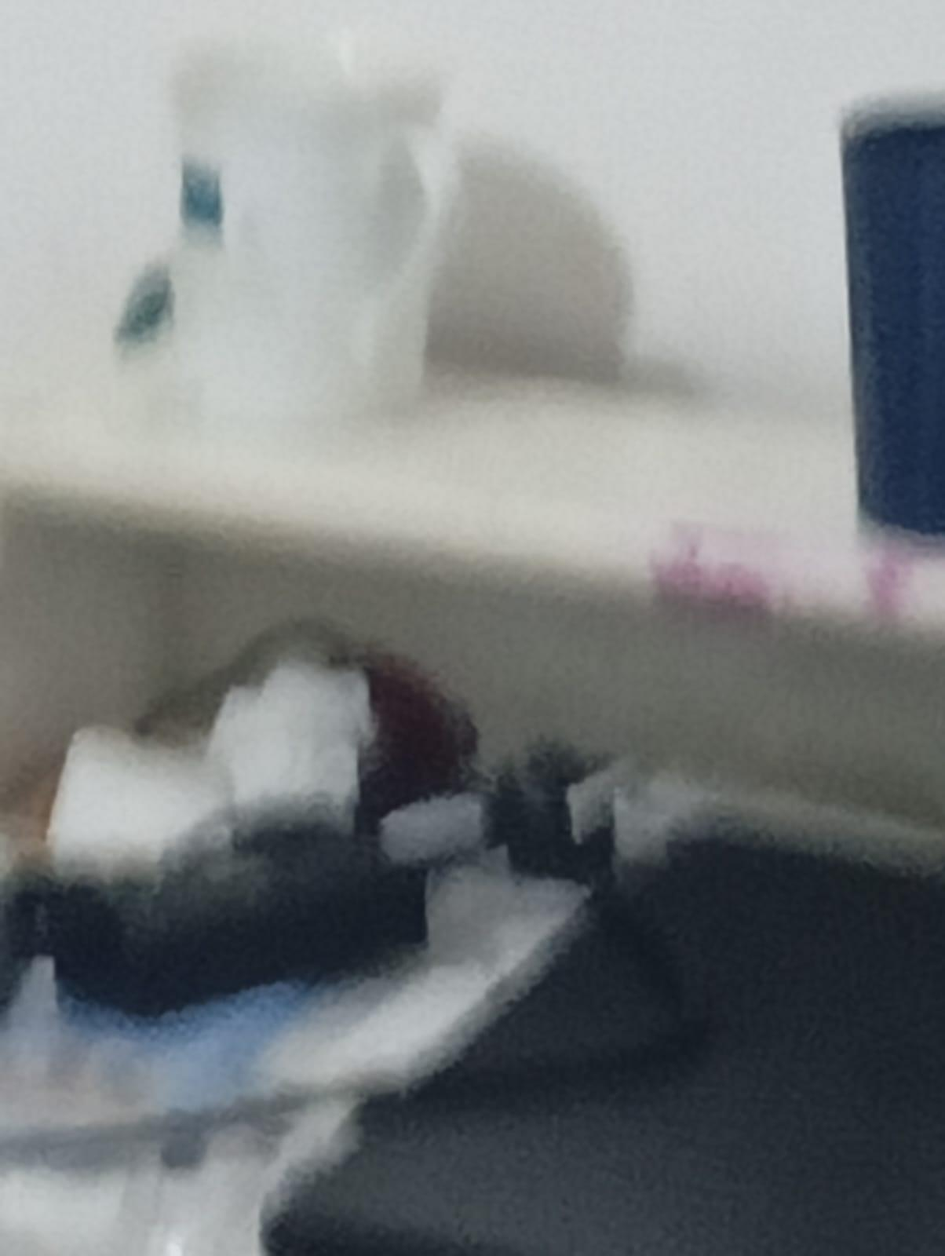cup: (115, 44, 456, 440), (841, 100, 944, 536)
